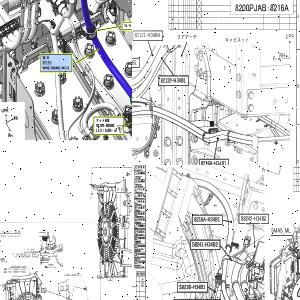PartNumber: (179, 283, 206, 291), (160, 77, 186, 84), (194, 216, 220, 223), (192, 241, 218, 248), (134, 32, 161, 38), (240, 215, 267, 221), (200, 160, 226, 165), (96, 122, 115, 128), (14, 270, 26, 274), (64, 273, 78, 276), (14, 268, 26, 271)
